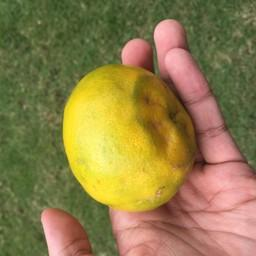Good_orange: (54, 57, 194, 214)
